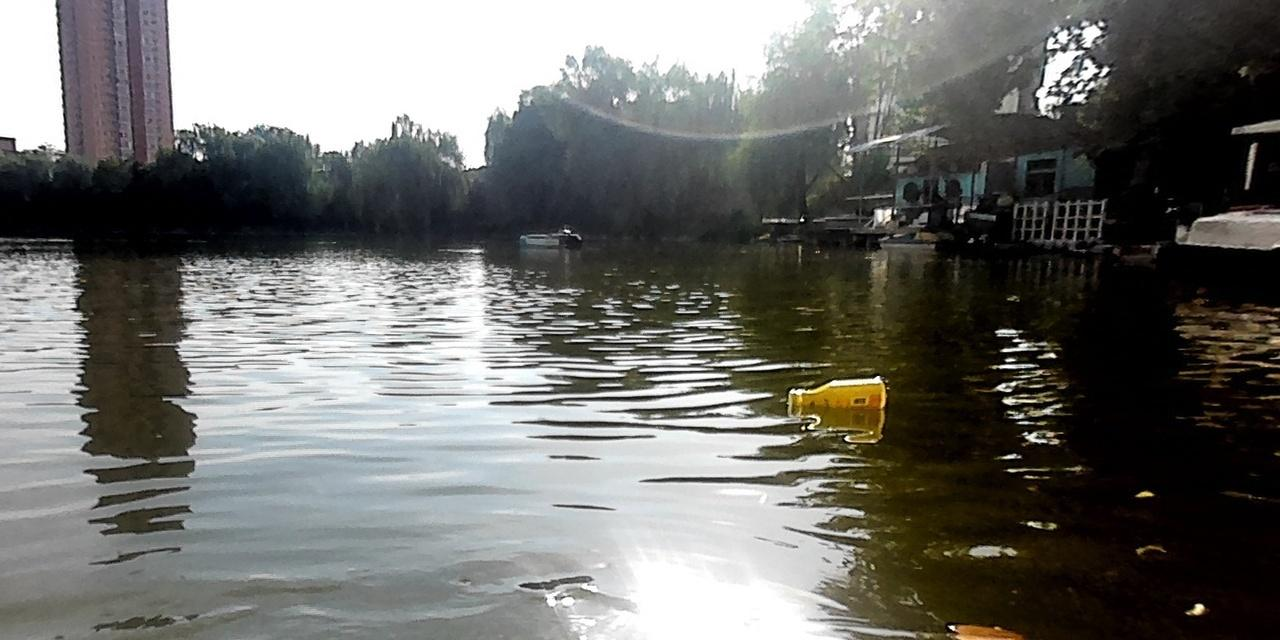bottle: (787, 375, 884, 415)
